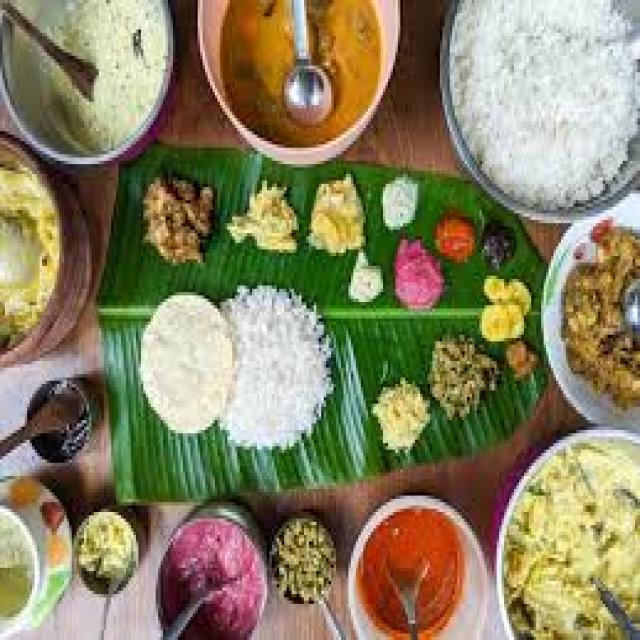IDLI: (217, 282, 326, 446)
